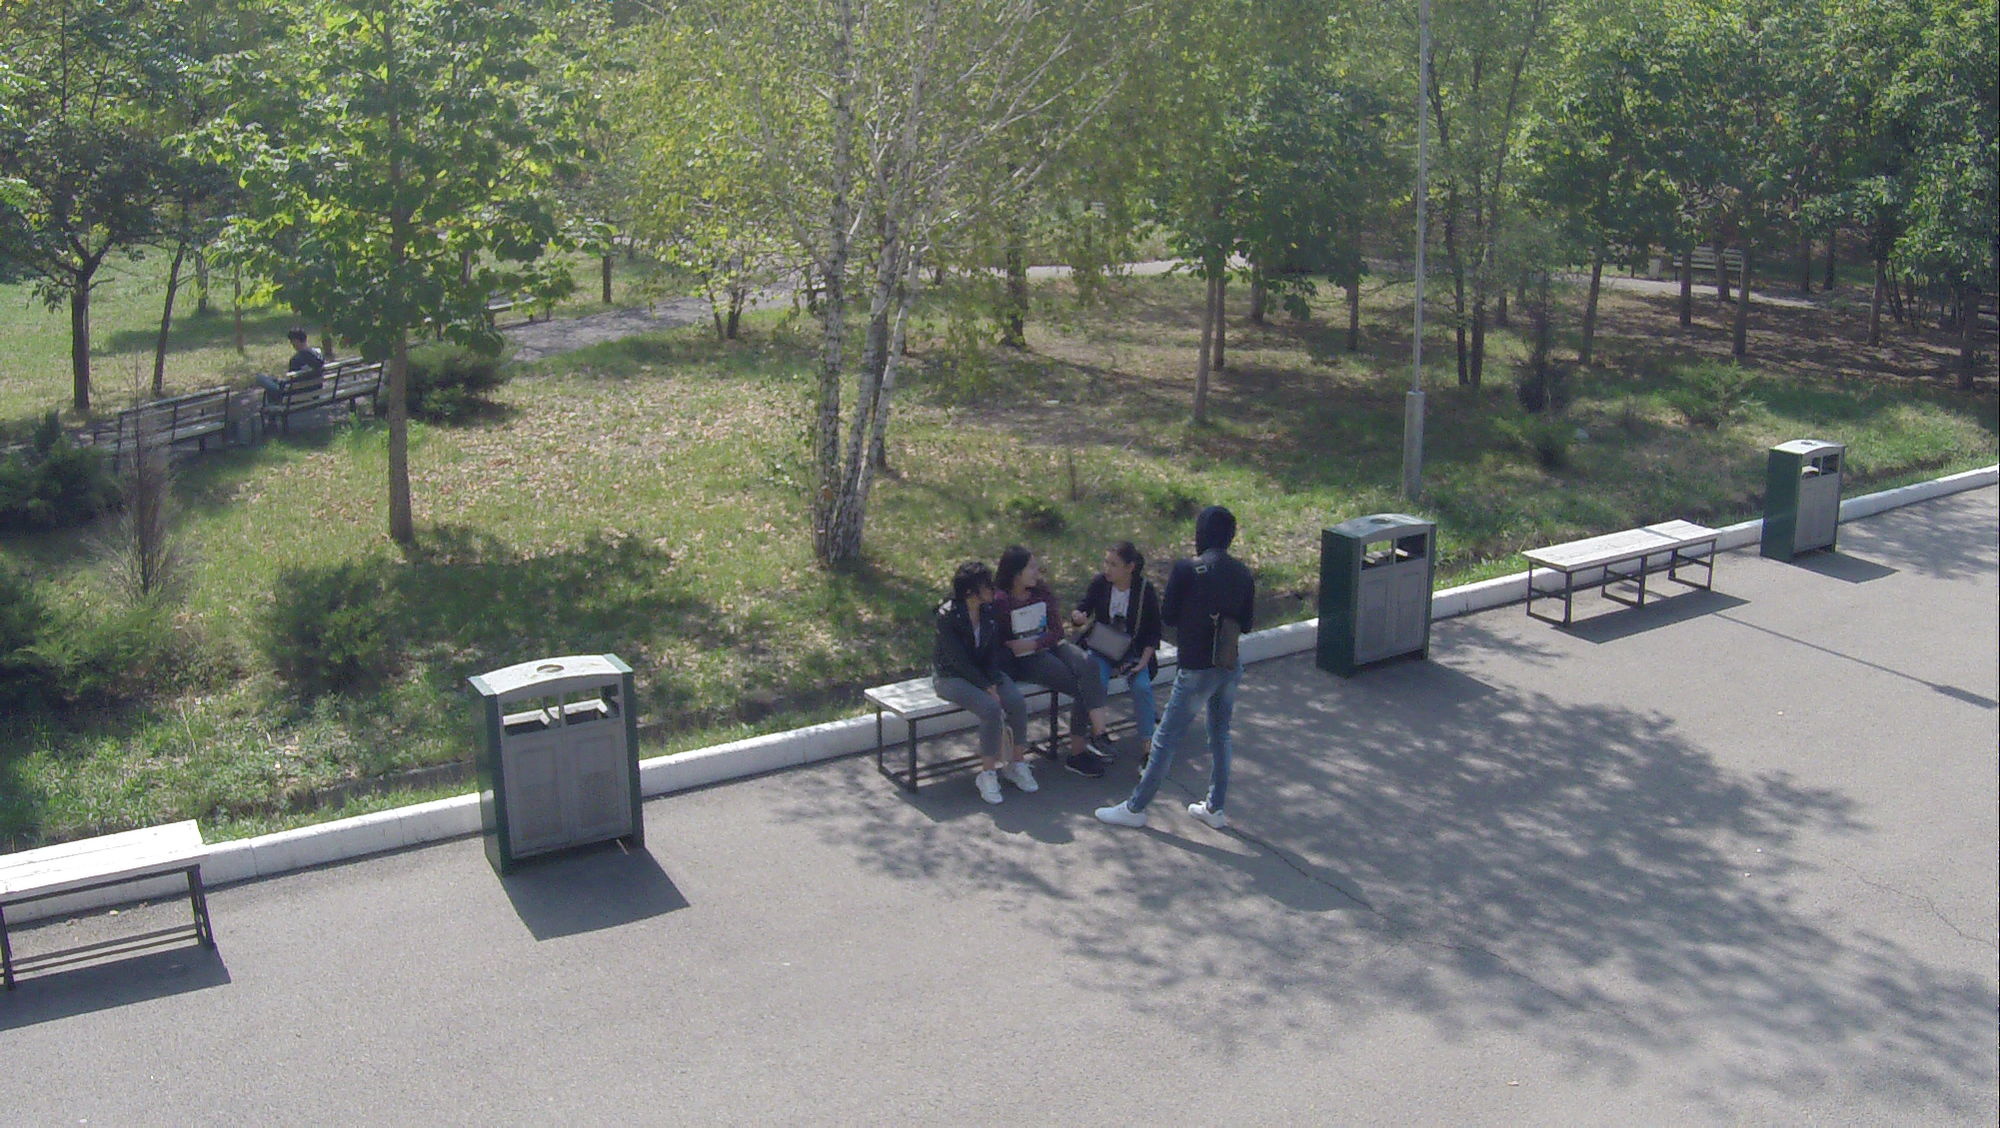person: (1078, 499, 1266, 843), (987, 547, 1120, 785), (930, 560, 1035, 808), (1076, 533, 1176, 772), (249, 324, 326, 433)
